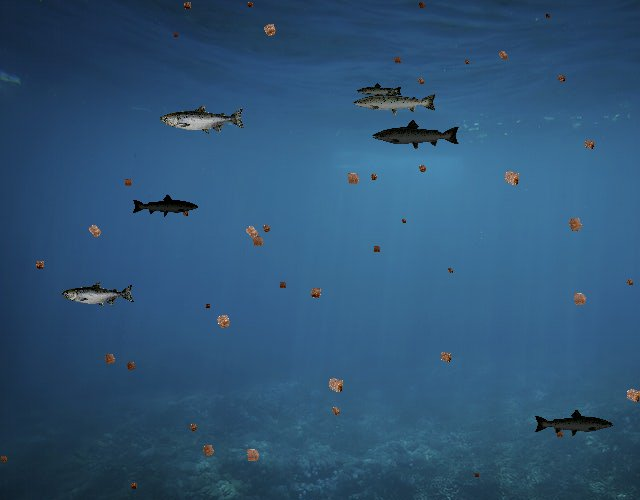Fish: (372, 119, 462, 151), (352, 86, 438, 117), (160, 104, 246, 135), (534, 409, 615, 438), (63, 281, 136, 308), (131, 194, 199, 218), (356, 83, 403, 100)
Pellet: (239, 441, 266, 468), (341, 166, 366, 191), (493, 45, 513, 65), (179, 0, 196, 14), (369, 242, 384, 256), (462, 56, 472, 66)
